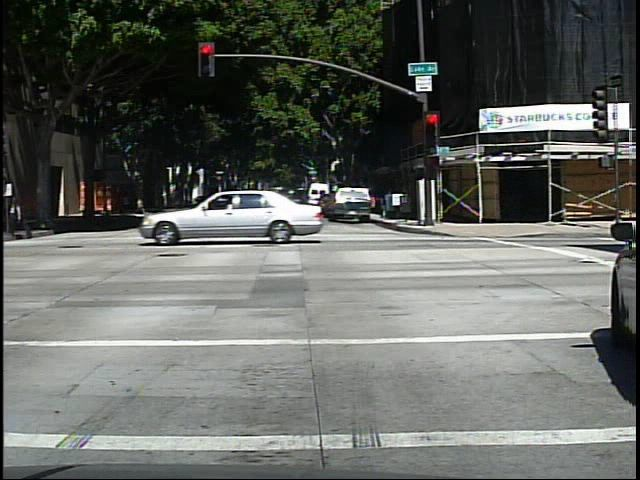person: (7, 189, 37, 242)
